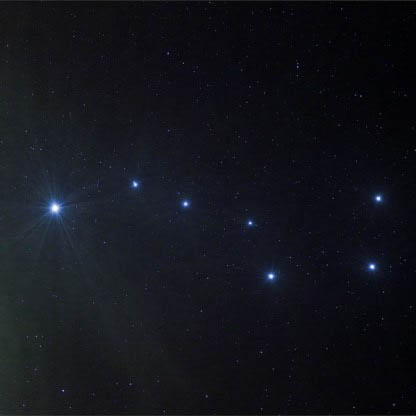Ursa Major: (38, 191, 80, 227), (258, 265, 282, 286), (119, 171, 140, 193), (174, 191, 197, 211), (366, 254, 382, 279), (369, 187, 388, 208), (242, 211, 258, 230)
